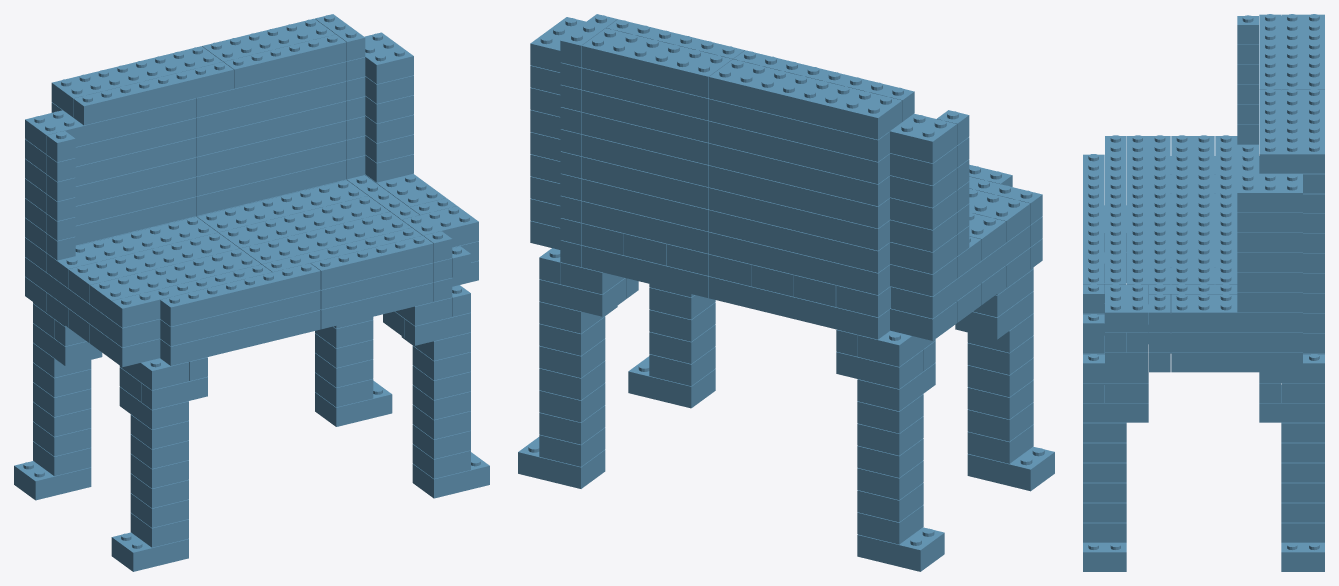
The model's file is 032_bench_L2.glb.
The picture shows the model from 3 angles, left to right: view 1: azimuth 30°, elevation 25°; view 2: azimuth 150°, elevation 25°; view 3: azimuth 270°, elevation 25°; orthographic projection. The views are drawn at different scales.
Bounding box in the file's own units: 18.98 × 20.13 × 10.98.
